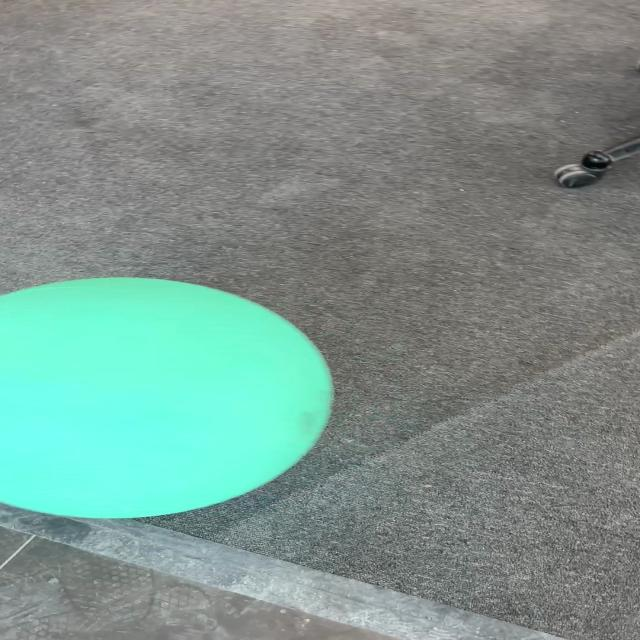Algae: (1, 276, 334, 519)
